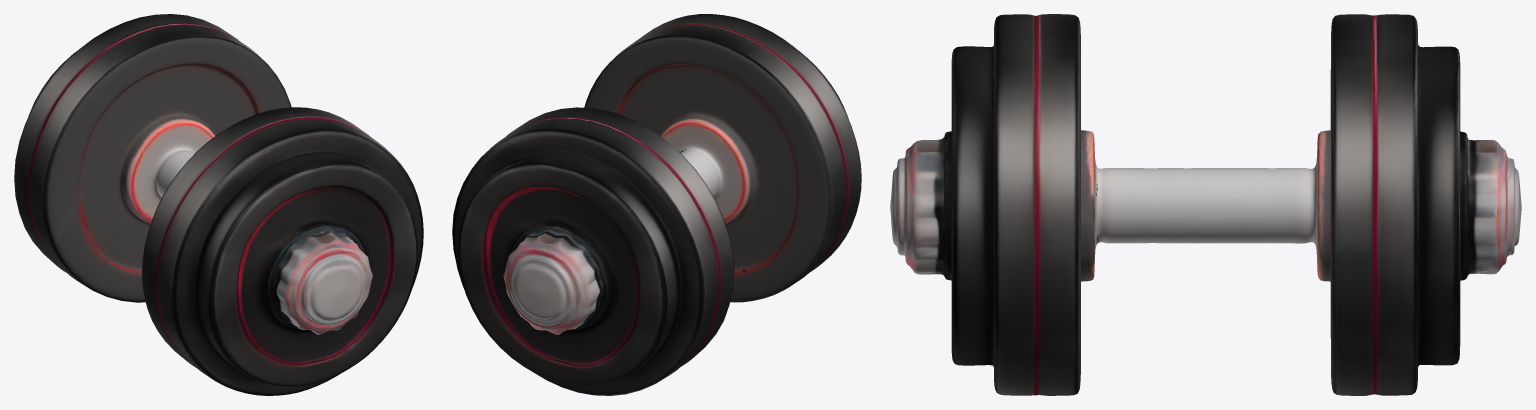
The model's file is base_basic_pbr.glb.
3 renders of one model, left to right at view 1: azimuth 30°, elevation 25°; view 2: azimuth 150°, elevation 25°; view 3: azimuth 270°, elevation 25°, orthographic. The views are drawn at different scales.
Visible parts, largest first — view 1: model; view 2: model; view 3: model.
Part boxes in pixels (left/top/right/bottom): model: left=14, top=14, right=423, bottom=395; model: left=452, top=14, right=861, bottom=395; model: left=890, top=14, right=1521, bottom=395.
Bounding box in the file's own units: 1.16 × 1.15 × 1.9.
Materials: 1 (1 with a texture image).
